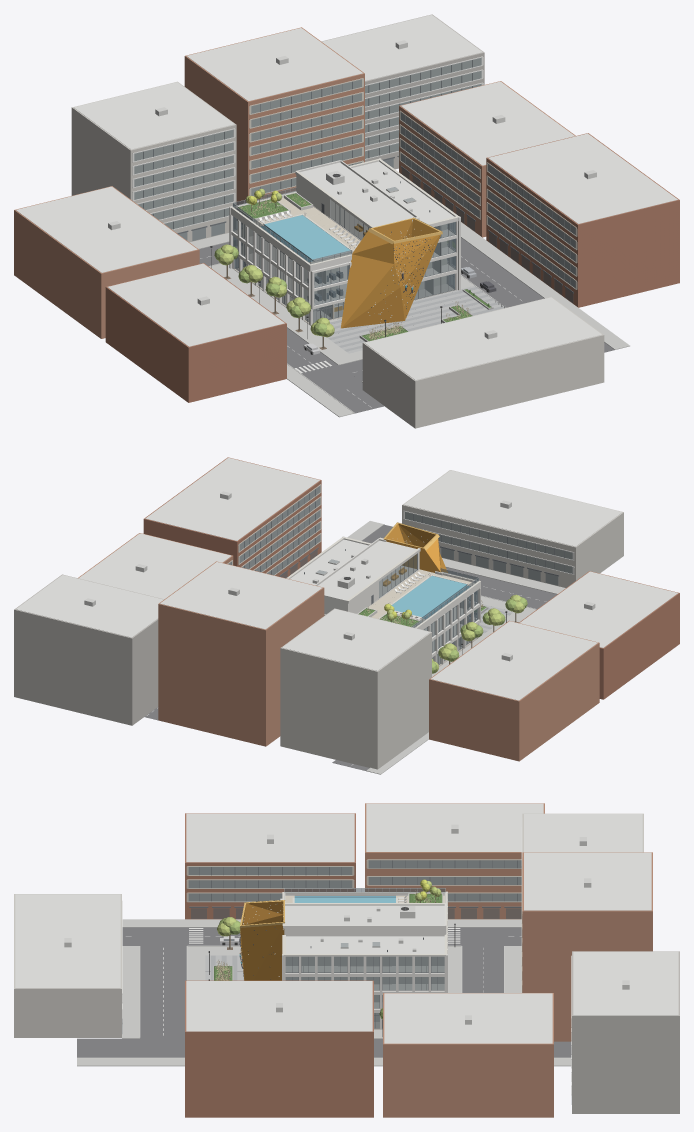
The model's file is clay-climbing-overhang-clay-v002.glb.
3 renders of one model, top to bottom at view 1: azimuth 30°, elevation 25°; view 2: azimuth 150°, elevation 25°; view 3: azimuth 270°, elevation 25°, orthographic. The views are drawn at different scales.
Visible parts, largest first — view 1: CLAY_MEMBRANE, CLAY_GLASS, CLAY_INTERIOR, CLAY_BRICK, CLAY_CTX, CLAY_BRICK2, CLAY_TIMBER, CLAY_PRECAST, CLAY_ASPHALT, CLAY_CONCRETE2, CLAY_STONE, CLAY_FRAME (+12 smaller); view 2: CLAY_MEMBRANE, CLAY_BRICK2, CLAY_CTX, CLAY_CTX2, CLAY_BRICK, CLAY_GLASS, CLAY_INTERIOR, CLAY_PRECAST, CLAY_CONCRETE2, CLAY_ASPHALT, CLAY_FRAME, CLAY_TIMBER (+8 smaller); view 3: CLAY_MEMBRANE, CLAY_BRICK2, CLAY_BRICK, CLAY_GLASS, CLAY_ASPHALT, CLAY_CTX2, CLAY_INTERIOR, CLAY_CONCRETE2, CLAY_CTX, CLAY_PRECAST, CLAY_TIMBER, CLAY_STONE (+6 smaller).
Boxes of the visible parts, left/top/right/bottom form: CLAY_MEMBRANE: left=16, top=15, right=677, bottom=380; CLAY_GLASS: left=134, top=58, right=575, bottom=349; CLAY_INTERIOR: left=134, top=58, right=575, bottom=319; CLAY_BRICK: left=105, top=133, right=679, bottom=402; CLAY_CTX: left=71, top=81, right=604, bottom=428; CLAY_BRICK2: left=14, top=27, right=575, bottom=338; CLAY_TIMBER: left=334, top=218, right=440, bottom=328; CLAY_PRECAST: left=229, top=158, right=460, bottom=325; CLAY_ASPHALT: left=199, top=237, right=614, bottom=413; CLAY_CONCRETE2: left=189, top=187, right=629, bottom=417; CLAY_STONE: left=249, top=78, right=577, bottom=289; CLAY_FRAME: left=143, top=60, right=573, bottom=321; CLAY_MEMBRANE: left=15, top=457, right=677, bottom=700; CLAY_BRICK2: left=78, top=533, right=599, bottom=761; CLAY_CTX: left=280, top=470, right=623, bottom=769; CLAY_CTX2: left=14, top=574, right=163, bottom=725; CLAY_BRICK: left=143, top=457, right=679, bottom=699; CLAY_GLASS: left=229, top=486, right=572, bottom=664; CLAY_INTERIOR: left=229, top=486, right=572, bottom=651; CLAY_PRECAST: left=289, top=536, right=480, bottom=664; CLAY_CONCRETE2: left=315, top=521, right=565, bottom=774; CLAY_ASPHALT: left=144, top=524, right=556, bottom=771; CLAY_FRAME: left=244, top=489, right=564, bottom=664; CLAY_TIMBER: left=383, top=522, right=447, bottom=586; CLAY_MEMBRANE: left=15, top=803, right=678, bottom=1043; CLAY_BRICK2: left=365, top=803, right=652, bottom=1117; CLAY_BRICK: left=185, top=813, right=373, bottom=1117; CLAY_GLASS: left=122, top=860, right=571, bottom=1104; CLAY_ASPHALT: left=77, top=927, right=571, bottom=1057; CLAY_CTX2: left=572, top=951, right=679, bottom=1113; CLAY_INTERIOR: left=188, top=860, right=521, bottom=1021; CLAY_CONCRETE2: left=77, top=919, right=571, bottom=1066; CLAY_CTX: left=14, top=813, right=643, bottom=1037; CLAY_PRECAST: left=280, top=891, right=447, bottom=1029; CLAY_TIMBER: left=240, top=900, right=284, bottom=980; CLAY_STONE: left=186, top=857, right=522, bottom=992.
Bounding box in the file's own units: 130 × 33.2 × 148.
